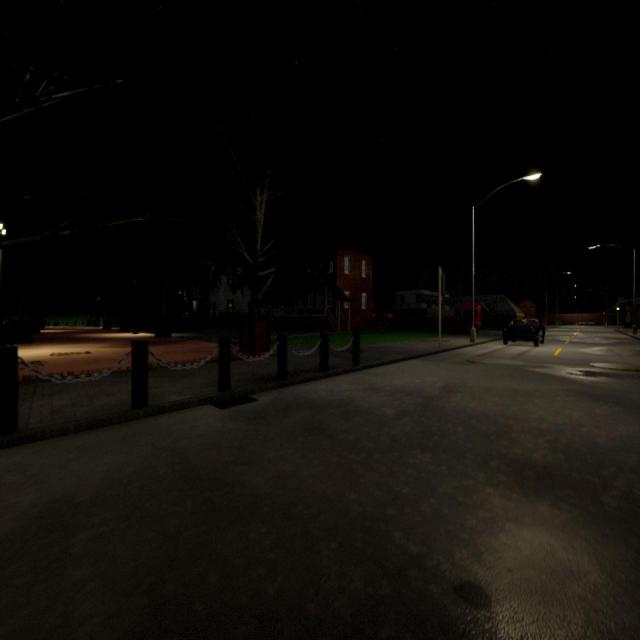Vehicle: (503, 318, 545, 346)
traffic_light: (441, 274, 445, 297), (616, 306, 620, 312), (603, 312, 605, 316)
